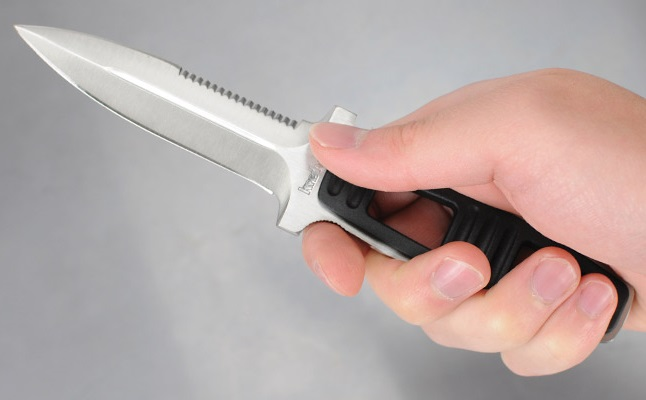knife: (9, 15, 619, 346)
